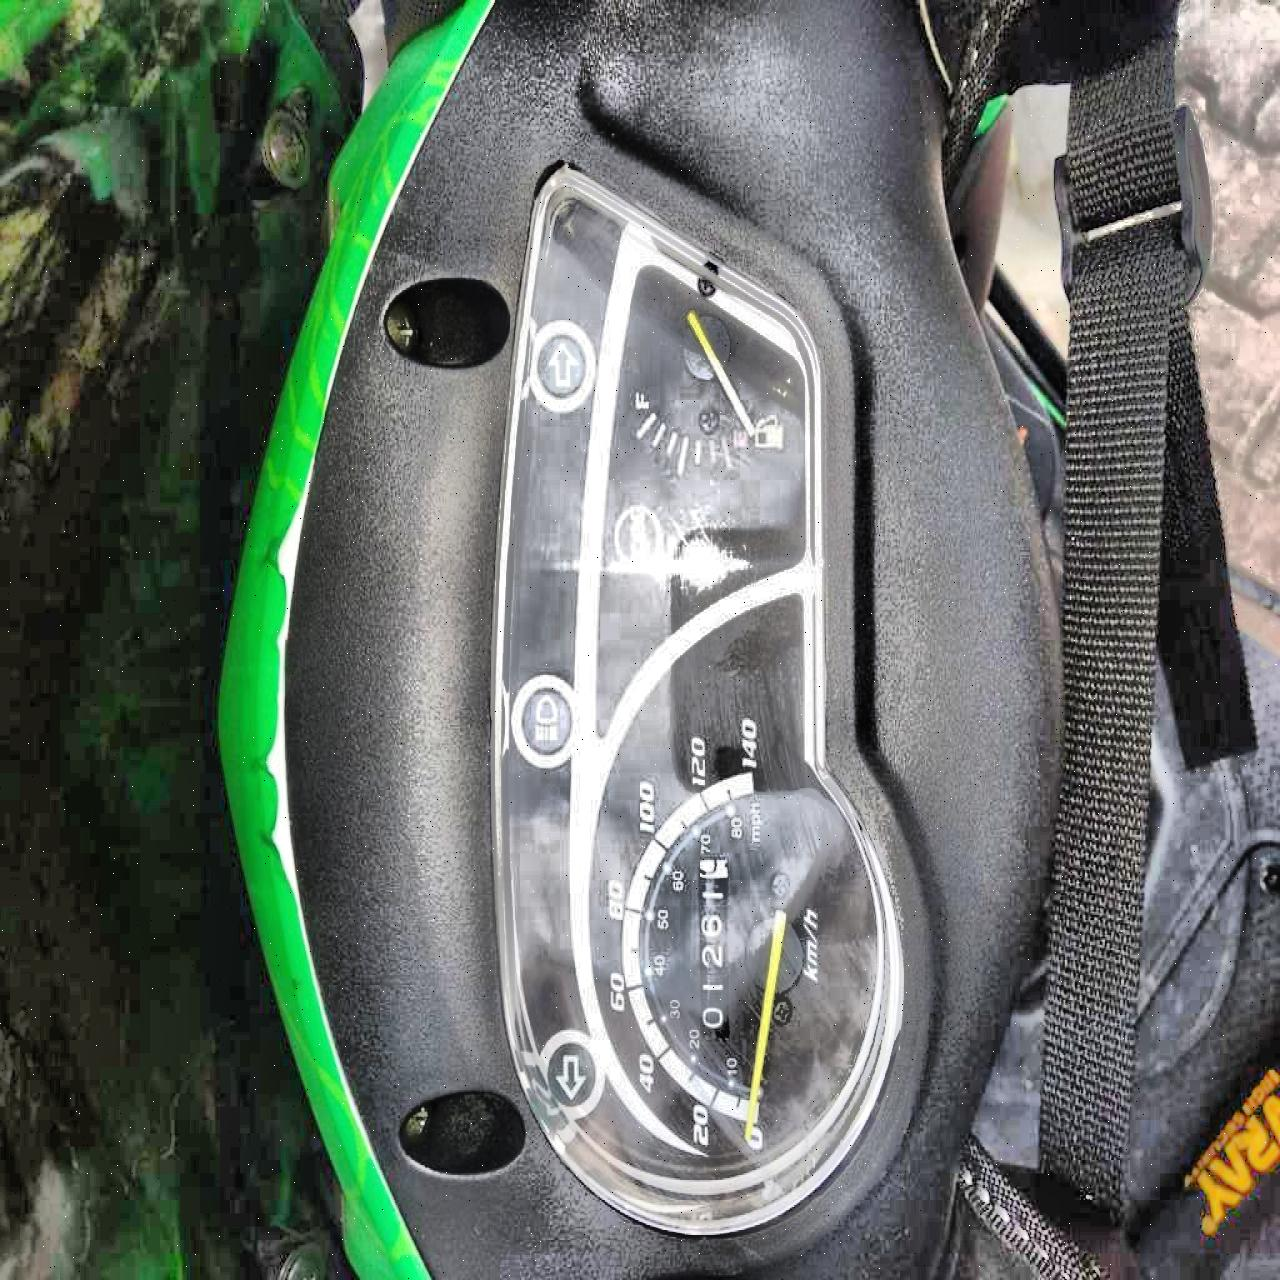0: (699, 1005, 723, 1028), (695, 855, 716, 874), (693, 1027, 699, 1039)
1: (697, 885, 724, 901), (697, 976, 723, 993)
2: (696, 941, 723, 968)
6: (696, 912, 722, 938)
odometer: (693, 853, 733, 1043)
